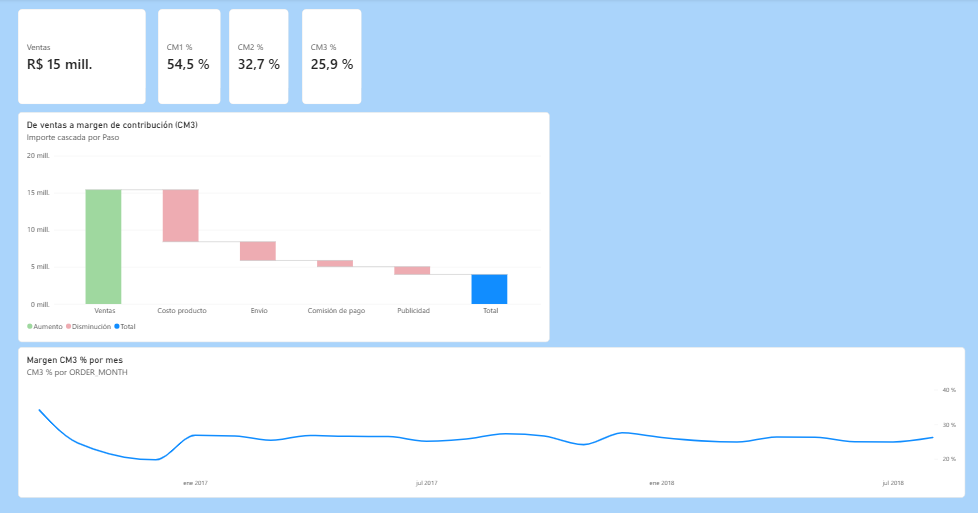

The page's visual inventory and layout, read from the dashboard file:
{"tool":"powerbi","page":{"name":"Resumen","canvas":[1920,1080],"ordinal":0},"visuals":[{"type":"cardVisual","fields":{"Data":["_Medidas.CM1 %"]},"box":[309.7,20.6,123.9,187.9],"z":0},{"type":"cardVisual","fields":{"Data":["_Medidas.CM2 %"]},"box":[450.1,20.6,117.7,187.9],"z":1},{"type":"cardVisual","fields":{"Data":["_Medidas.CM3 %"]},"box":[592.5,20.6,117.7,187.9],"z":2},{"type":"cardVisual","fields":{"Data":["_Medidas.Ventas"]},"box":[35.1,20.6,251.9,187.9],"z":3},{"type":"waterfallChart","title":"De ventas a margen de contribución (CM3)","fields":{"Category":["Pasos cascada.Paso"],"Y":["_Medidas.Importe cascada"]},"box":[36,224,1044,452],"z":4},{"type":"lineChart","title":"Margen CM3 % por mes","fields":{"Category":["FCT_ORDER_ITEM_MARGINS.ORDER_MONTH"],"Y2":["_Medidas.CM3 %"]},"box":[36,686,1860,296],"z":5}]}

Visuals, with their boxes on the page's 1920x1080 design canvas (x1, y1, x2, y2). These are canvas units, not pixel positions in the 978x513 screenshot, which may show the page scaled, cropped or inside an application window:
cardVisual - _Medidas.CM1 %: box(310, 21, 434, 208)
cardVisual - _Medidas.CM2 %: box(450, 21, 568, 208)
cardVisual - _Medidas.CM3 %: box(592, 21, 710, 208)
cardVisual - _Medidas.Ventas: box(35, 21, 287, 208)
"De ventas a margen de contribución (CM3)" waterfallChart: box(36, 224, 1080, 676)
"Margen CM3 % por mes" lineChart: box(36, 686, 1896, 982)
